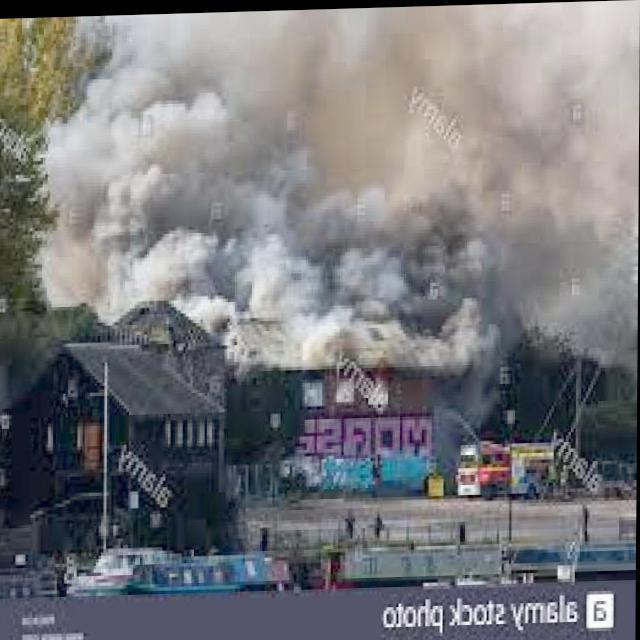Smoke: (38, 0, 640, 384)
